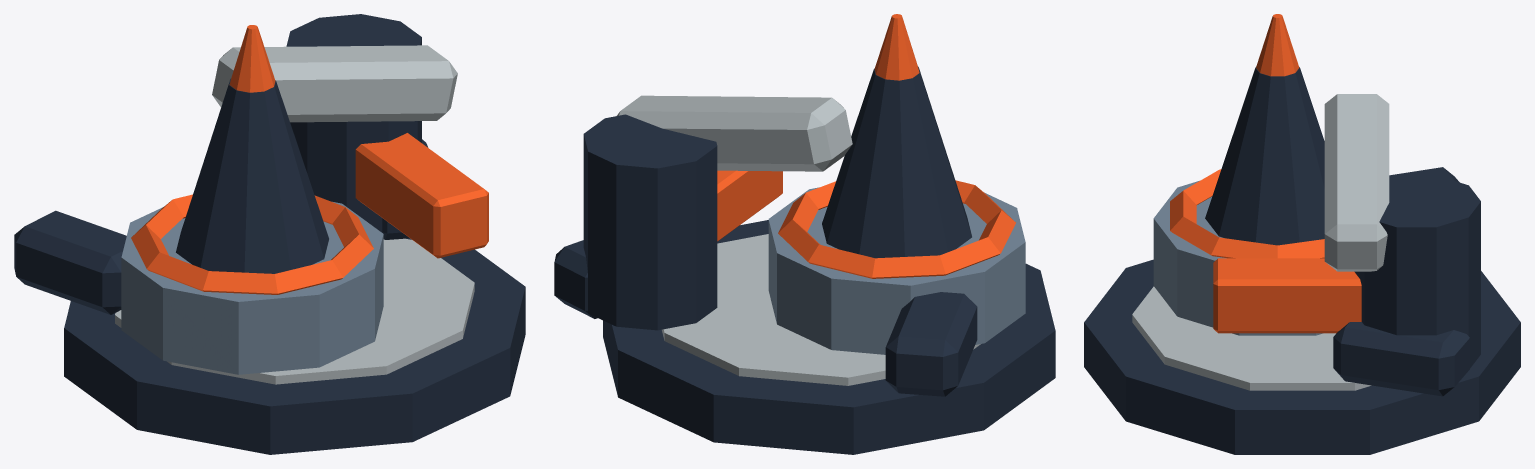
The model's file is extractor.glb.
The picture shows the model from 3 angles, left to right: view 1: azimuth 30°, elevation 25°; view 2: azimuth 150°, elevation 25°; view 3: azimuth 270°, elevation 25°; orthographic projection. The views are drawn at different scales.
Parts seen in each view (by area): view 1: Hexagonal foundation, Drill collar, Ore drill, Extraction boom, Ceramic foundation inset, Ore chute, Ore hopper, Outrigger, Drill warning ring, Drill bit; view 2: Hexagonal foundation, Ore hopper, Ore drill, Drill collar, Ceramic foundation inset, Extraction boom, Outrigger, Drill warning ring, Ore chute, Outrigger.001, Drill bit; view 3: Hexagonal foundation, Ore hopper, Ore drill, Extraction boom, Ceramic foundation inset, Ore chute, Outrigger.001, Drill collar, Drill warning ring, Drill bit.
Part boxes in pixels (bbox=[...]): Hexagonal foundation: bbox=[64, 238, 525, 454]; Drill collar: bbox=[121, 201, 383, 374]; Ore drill: bbox=[176, 78, 328, 273]; Extraction boom: bbox=[212, 45, 457, 122]; Ceramic foundation inset: bbox=[115, 238, 474, 384]; Ore chute: bbox=[355, 133, 488, 258]; Ore hopper: bbox=[286, 14, 421, 234]; Outrigger: bbox=[14, 210, 126, 314]; Drill warning ring: bbox=[131, 194, 373, 294]; Drill bit: bbox=[229, 25, 275, 92]; Hexagonal foundation: bbox=[603, 220, 1055, 454]; Ore hopper: bbox=[583, 114, 717, 330]; Ore drill: bbox=[822, 66, 971, 258]; Drill collar: bbox=[768, 187, 1025, 354]; Ceramic foundation inset: bbox=[662, 234, 980, 385]; Extraction boom: bbox=[617, 95, 852, 171]; Outrigger: bbox=[885, 292, 977, 396]; Drill warning ring: bbox=[778, 180, 1015, 278]; Ore chute: bbox=[717, 170, 782, 241]; Outrigger.001: bbox=[554, 240, 597, 318]; Drill bit: bbox=[874, 14, 919, 80]; Hexagonal foundation: bbox=[1084, 259, 1520, 454]; Ore hopper: bbox=[1354, 175, 1480, 368]; Ore drill: bbox=[1205, 67, 1324, 245]; Extraction boom: bbox=[1324, 94, 1389, 271]; Ceramic foundation inset: bbox=[1132, 286, 1371, 390]; Ore chute: bbox=[1213, 258, 1361, 333]; Outrigger.001: bbox=[1333, 322, 1469, 396]; Drill collar: bbox=[1153, 180, 1322, 335]; Drill warning ring: bbox=[1170, 169, 1324, 258]; Drill bit: bbox=[1256, 14, 1299, 76].
Bounding box in the file's own units: 0.8835 × 0.725 × 0.88.
